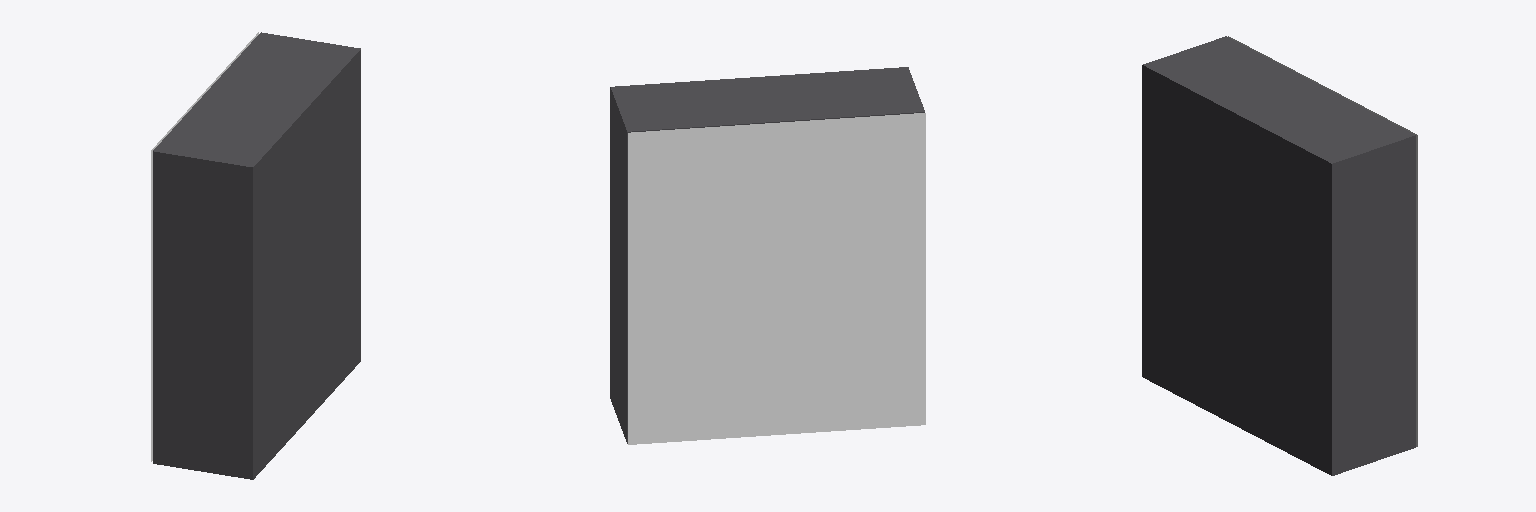
File: steamhappy.obj
3 renders of one model, left to right at view 1: azimuth 30°, elevation 25°; view 2: azimuth 150°, elevation 25°; view 3: azimuth 270°, elevation 25°, orthographic.
Visible parts, largest first — view 1: Happy1, Happy2; view 2: Happy2, Happy1; view 3: Happy1, Happy2.
Boxes of the visible parts, x1,y1,x2,y2 form: Happy1: [153, 32, 360, 479]; Happy2: [151, 32, 258, 461]; Happy2: [628, 113, 925, 444]; Happy1: [610, 67, 924, 443]; Happy1: [1142, 36, 1415, 475]; Happy2: [1228, 36, 1417, 446].
Bounding box in the file's own units: 2.82 × 3.2 × 2.55.